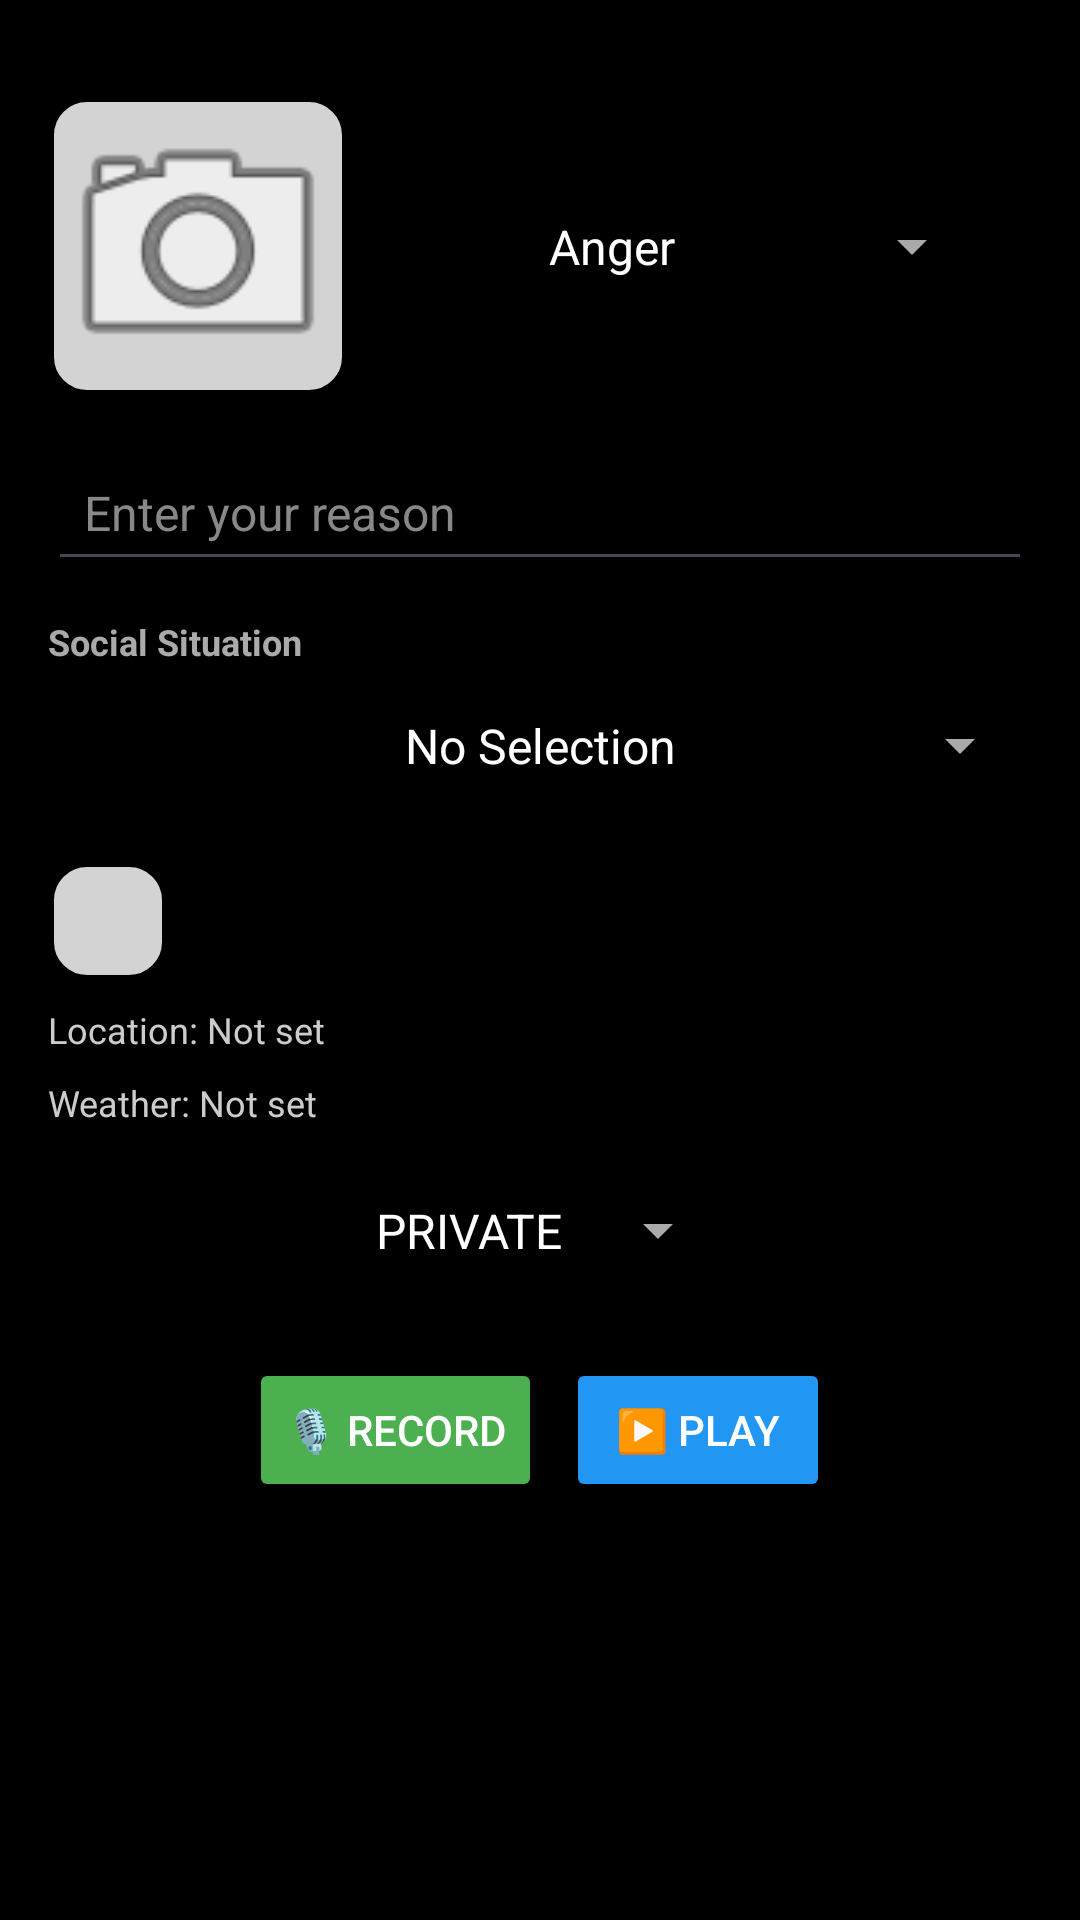

Icons on this 1080px x 1920px Android screen, each with its box as (x1, y1, x2, y2):
Upload Image: (54, 102, 342, 390)
